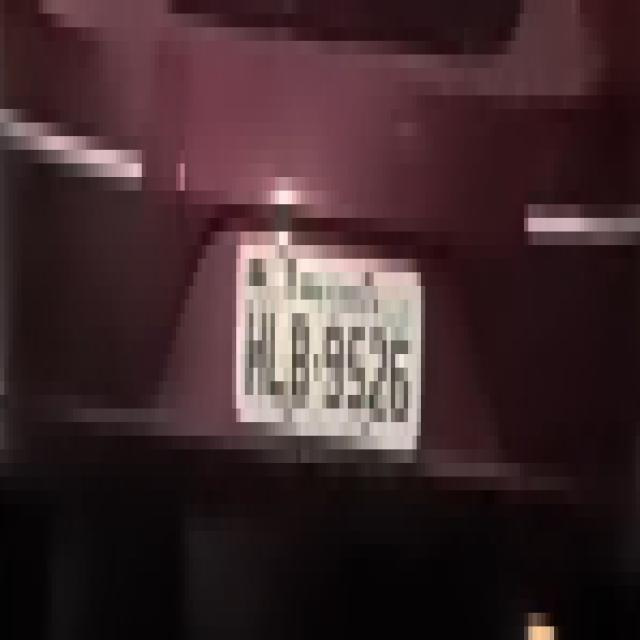Placa_mercosul_carro: (234, 240, 422, 450)
